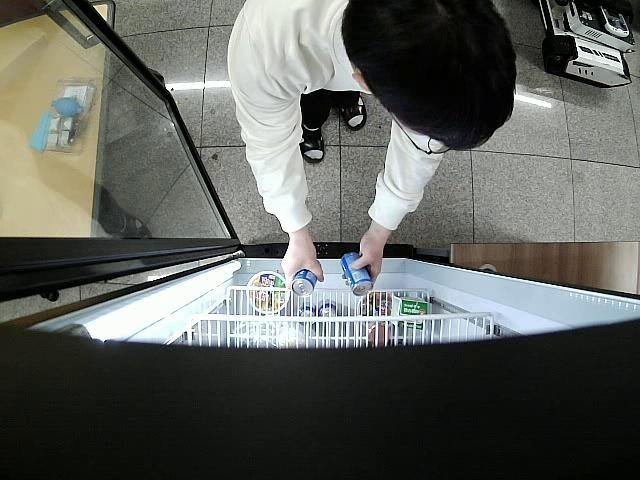15_letsbe: (342, 250, 374, 298), (293, 264, 317, 298)
